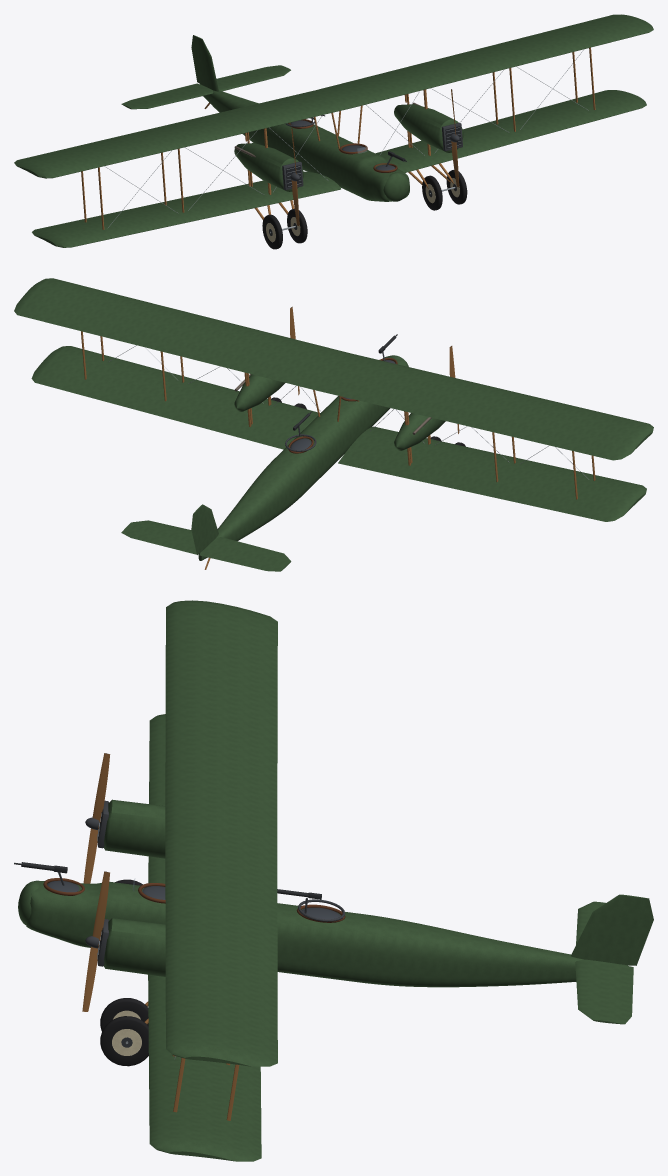
File: twin-engine-bomber-biplane.glb
The picture shows the model from 3 angles, top to bottom: view 1: azimuth 30°, elevation 25°; view 2: azimuth 150°, elevation 25°; view 3: azimuth 270°, elevation 25°; orthographic projection. The views are drawn at different scales.
Parts seen in each view (by area): view 1: Twin_Engine_Bomber_Biplane, Wheel_R2, Wheel_L1, Wheel_R1, Wheel_L2, Propeller_R, Propeller_L; view 2: Twin_Engine_Bomber_Biplane; view 3: Twin_Engine_Bomber_Biplane, Wheel_L2, Propeller_L, Propeller_R, Wheel_L1.
Boxes of the visible parts, box(x1,y1,x2,y2) form: Twin_Engine_Bomber_Biplane: box(14, 14, 653, 247); Wheel_R2: box(262, 214, 282, 249); Wheel_L1: box(422, 175, 442, 210); Wheel_R1: box(287, 208, 307, 243); Wheel_L2: box(446, 170, 467, 204); Propeller_R: box(290, 128, 299, 226); Propeller_L: box(450, 89, 459, 187); Twin_Engine_Bomber_Biplane: box(14, 278, 653, 571); Twin_Engine_Bomber_Biplane: box(14, 600, 653, 1161); Wheel_L2: box(100, 1016, 148, 1066); Propeller_L: box(82, 871, 109, 1011); Propeller_R: box(83, 753, 110, 883); Wheel_L1: box(100, 998, 148, 1031).
Bounding box in the file's own units: 20 × 3.79 × 11.89.
Materials: 13 (2 with a texture image).
